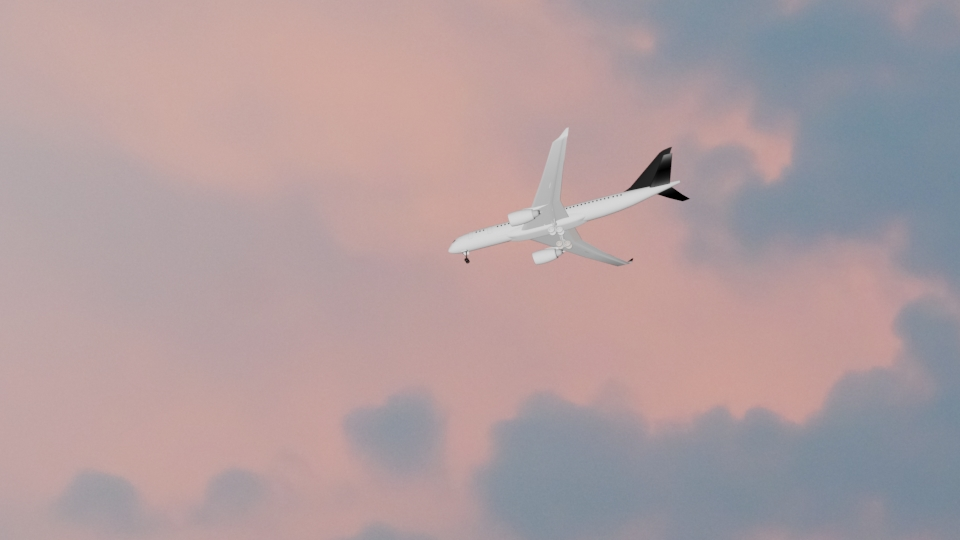plane: (444, 125, 689, 269)
